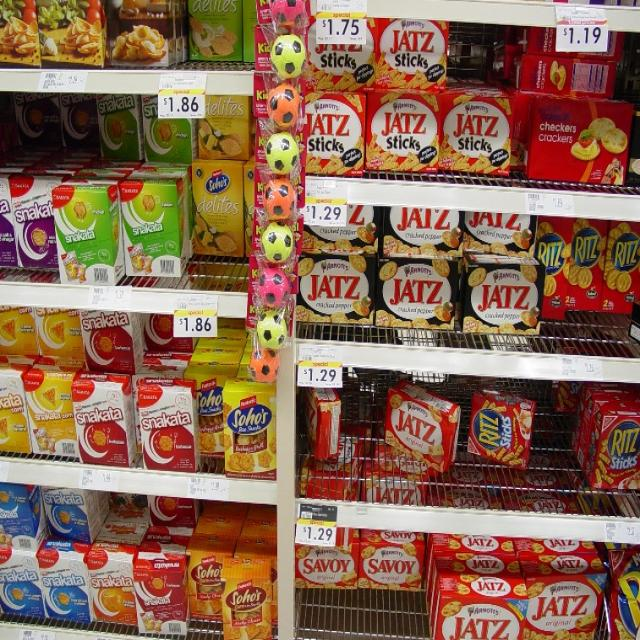q109: (462, 259, 538, 336), (298, 255, 371, 327), (378, 259, 448, 333)
